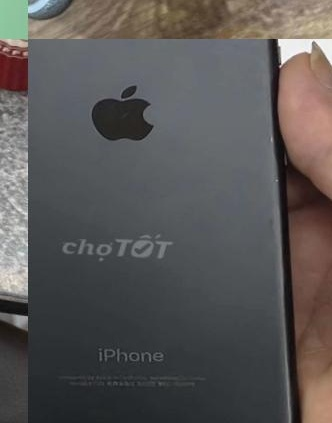scratch: (28, 0, 222, 24), (263, 117, 279, 147), (270, 173, 285, 189)
